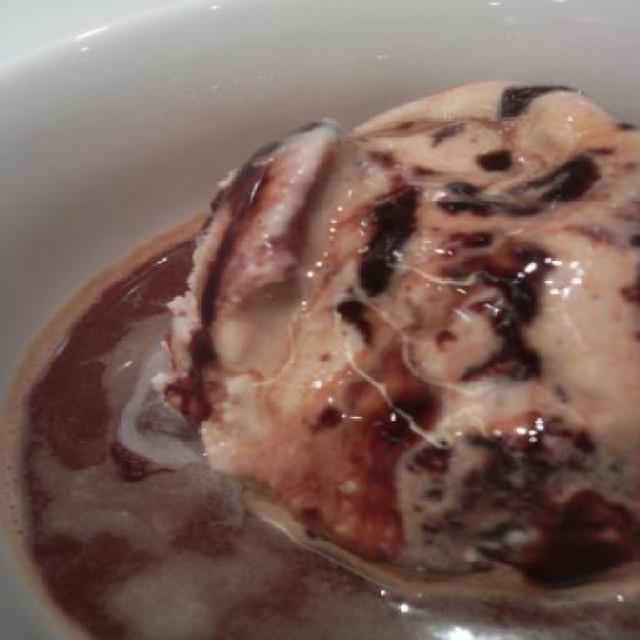Ice cream: (142, 76, 638, 638)
